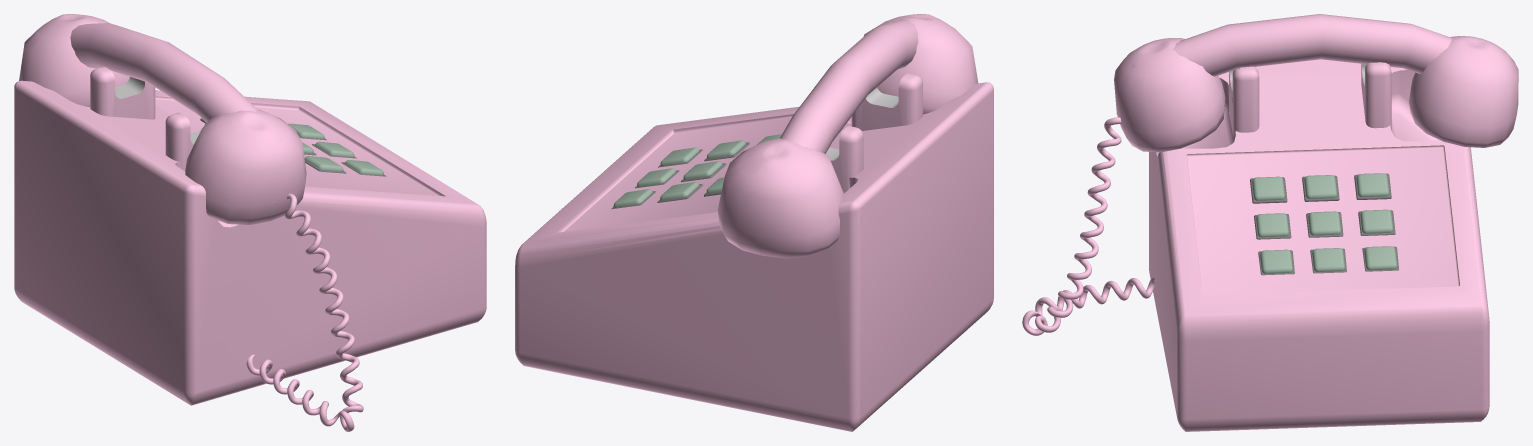
Rendered from phone.glb.
3 renders of one model, left to right at view 1: azimuth 30°, elevation 25°; view 2: azimuth 150°, elevation 25°; view 3: azimuth 270°, elevation 25°, orthographic. The views are drawn at different scales.
Parts seen in each view (by area): view 1: 전화기.1; view 2: 전화기.1; view 3: 전화기.1.
Boxes of the visible parts, left/top/right/bottom form: 전화기.1: left=14, top=14, right=486, bottom=431; 전화기.1: left=515, top=14, right=993, bottom=431; 전화기.1: left=1022, top=14, right=1518, bottom=431.
Size of the model in its own units: 0.223 by 0.1874 by 0.2847.
1 material, 1 textured.
